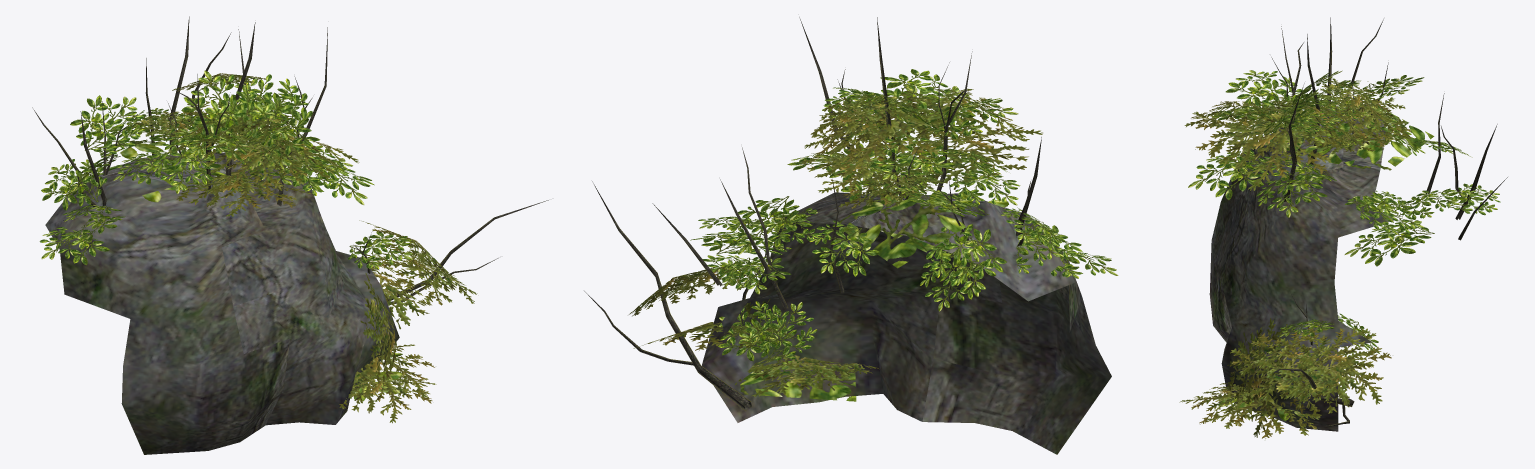
The model's file is S_Rock_Green004_A1.FBX.
3 renders of one model, left to right at view 1: azimuth 30°, elevation 25°; view 2: azimuth 150°, elevation 25°; view 3: azimuth 270°, elevation 25°, orthographic. The views are drawn at different scales.
Visible parts, largest first — view 1: S_Rock_Green004_A1; view 2: S_Rock_Green004_A1; view 3: S_Rock_Green004_A1.
Boxes of the visible parts, x1,y1,x2,y2 form: S_Rock_Green004_A1: [32, 16, 548, 454]; S_Rock_Green004_A1: [584, 17, 1118, 454]; S_Rock_Green004_A1: [1179, 17, 1507, 438].
Bounding box in the file's own units: 832 × 632 × 557.
3 materials, 3 textured.
